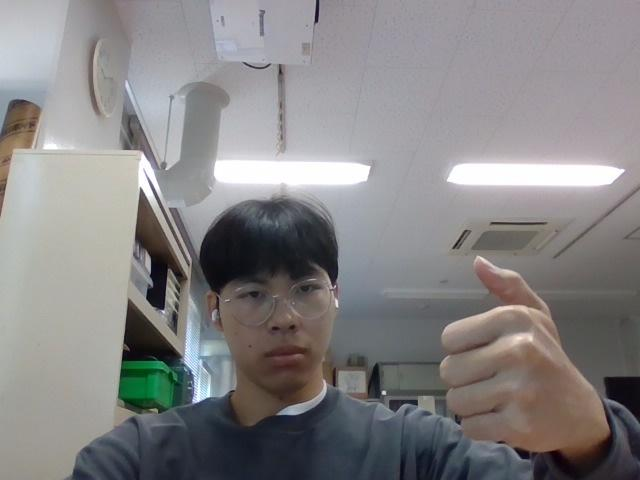thumbs-up: (425, 256, 615, 462)
